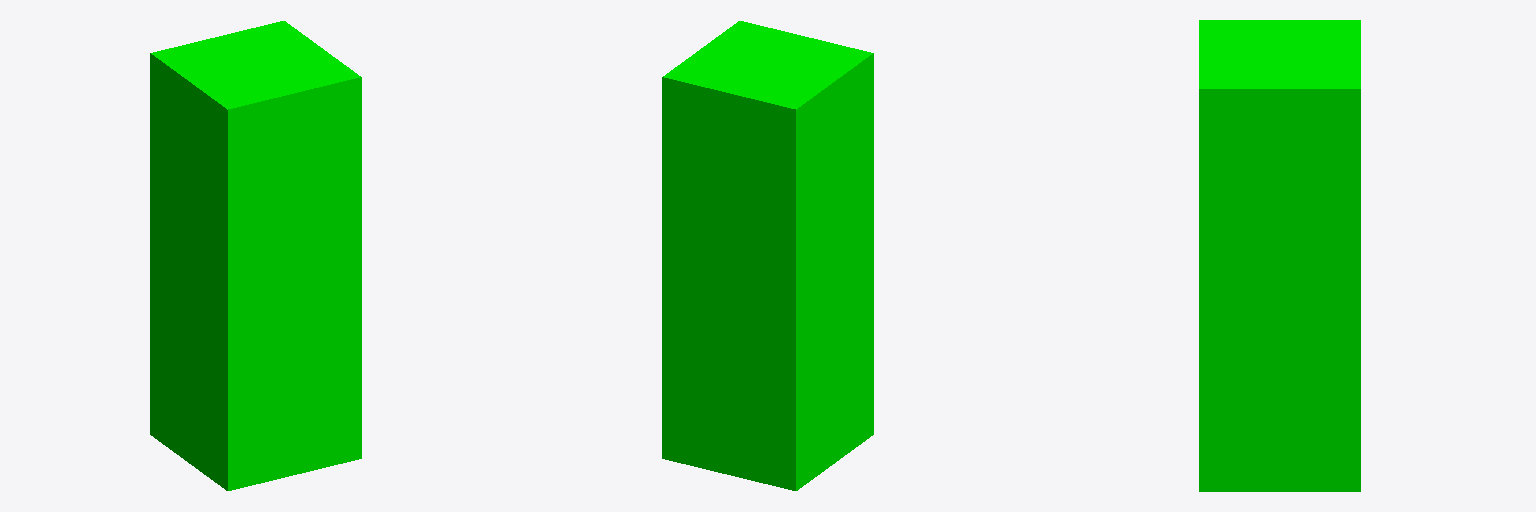
robot.urdf — box1:
<?xml version="1.0"?>
<robot name="box1">
	<link name="base">
	<inertial>
        	 <origin xyz="0 0 0" rpy="0 0 0"/>
        	 <mass value="1"/>
        	 <inertia ixx="0.000683333"  ixy="0"  ixz="0" iyy="0.000683333" iyz="0" izz="0.000683333" />
       </inertial>
	<visual>
		<origin xyz="0 0 0" rpy="0 0 0" />
		<geometry>
			<box size="0.0055 0.0055 0.015" />
		</geometry>
		<material>
			<color rgba="0 1 0 1" />
		</material>
		</visual>
  	 <collision>
            <origin xyz="0 0 0" rpy="0 0 0" />
            <geometry>
			<box size="0.0055 0.0055 0.016" />
            </geometry>
	    <material>
			<color rgba="0 1 0 1" />
	    </material>
        </collision>
	</link>
</robot>

--- What the picture shows (computed from the rendered views, not written in the file) ---
The picture shows the robot from 3 angles, left to right: view 1: azimuth 30°, elevation 25°; view 2: azimuth 150°, elevation 25°; view 3: azimuth 270°, elevation 25°; orthographic projection.
Model box1 with 1 links and 0 joints (none), rooted at base, posed all joints at 0.
Links seen in each view (by area): view 1: base; view 2: base; view 3: base.
Boxes of the visible links, x1=… form: base: x1=150, y1=21, x2=361, y2=490; base: x1=662, y1=21, x2=873, y2=490; base: x1=1199, y1=20, x2=1360, y2=491.
Size in the robot's own frame: 0.0055 by 0.0055 by 0.015 metres.
Geometry: primitives only (box / cylinder / sphere), no mesh files.
